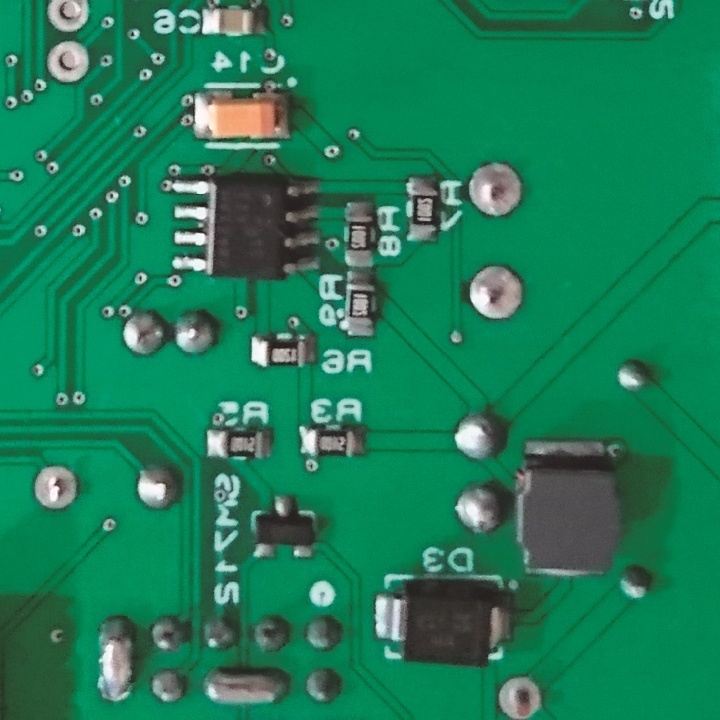F: (468, 263, 528, 323), (466, 159, 521, 223), (30, 461, 81, 512), (495, 672, 547, 720), (44, 38, 91, 85), (44, 1, 94, 35)
P: (94, 615, 139, 703), (201, 665, 295, 706)
